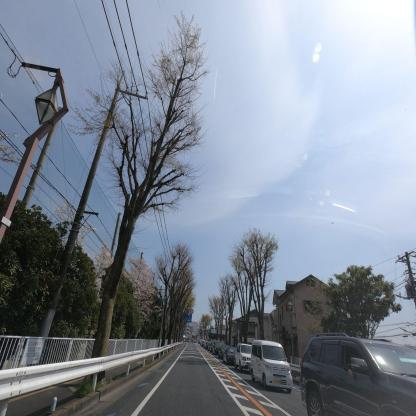Someiyoshino: (50, 194, 96, 253), (125, 250, 158, 325), (93, 237, 115, 298)
